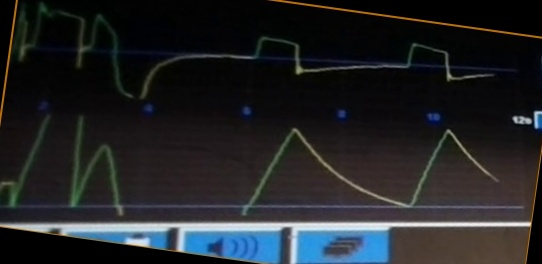Double_Triggering Flow: (12, 2, 494, 98)
Double_Triggering Volume: (1, 113, 497, 216)
